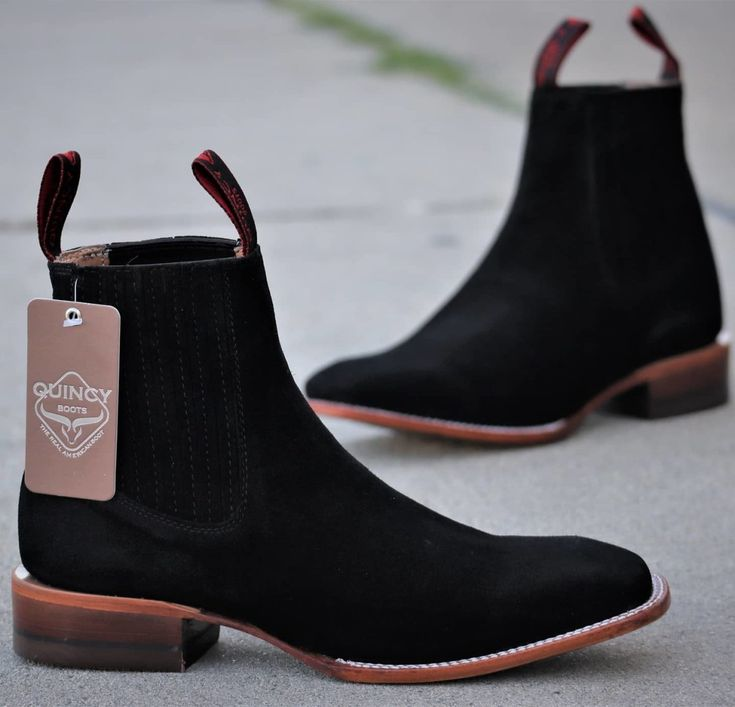gamuza: (18, 84, 722, 663)
